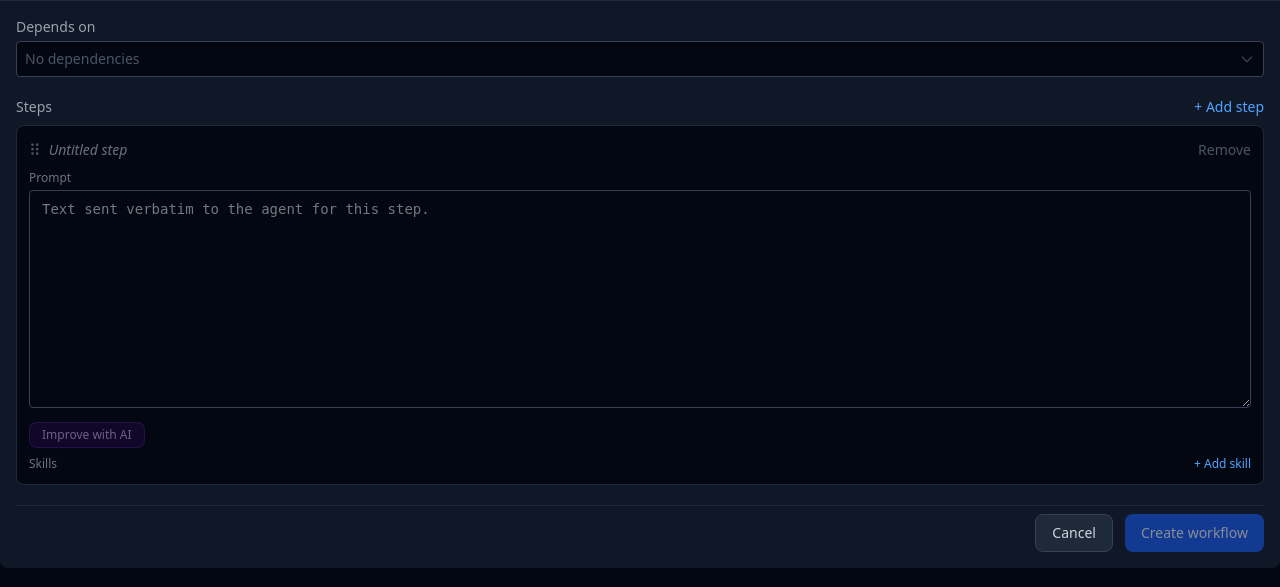
Test: FlowEditor — steps repeater › renames a step in place via the click-to-edit header
The image size is (1280, 587).
Click the button "Untitled step" at (88, 150), box [49, 140, 127, 159]
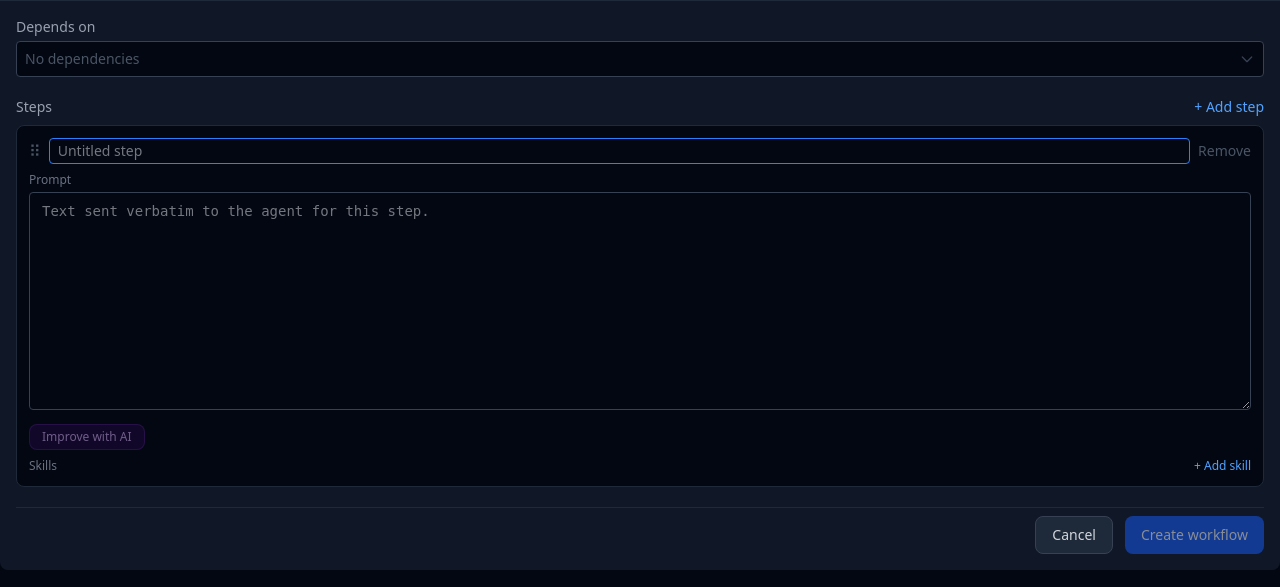
Type "lint" into the field with placeholder "Untitled step" at (619, 151), box [49, 138, 1190, 164]
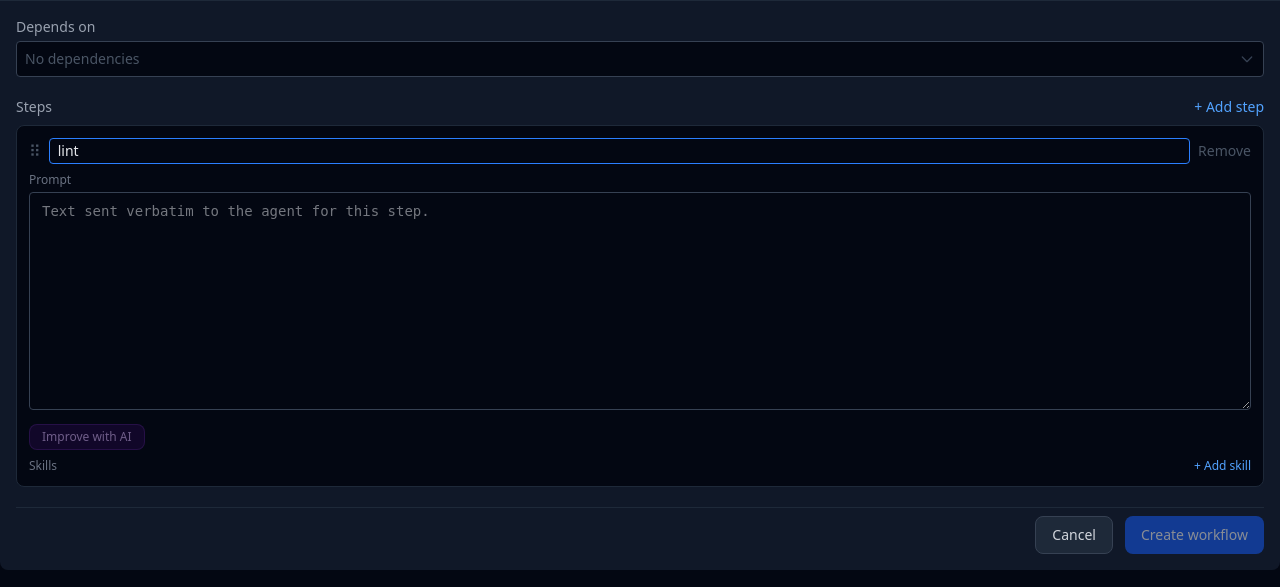
Press Enter in the field with placeholder "Untitled step", box [49, 138, 1190, 164]
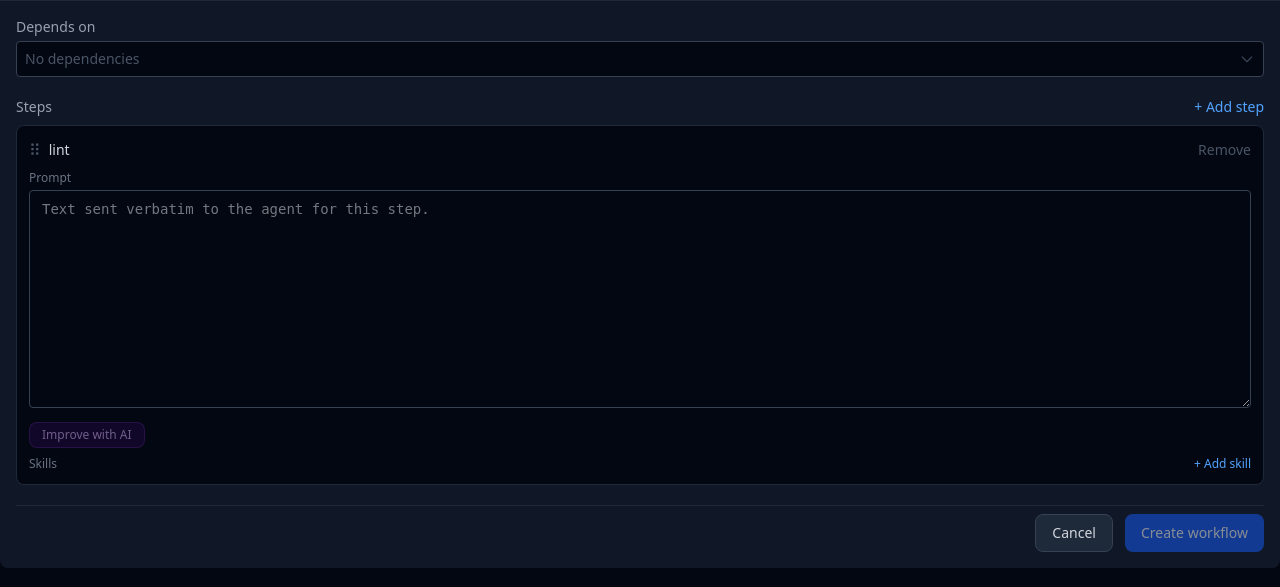
Result: the button "lint" is shown at [49, 140, 70, 159]
